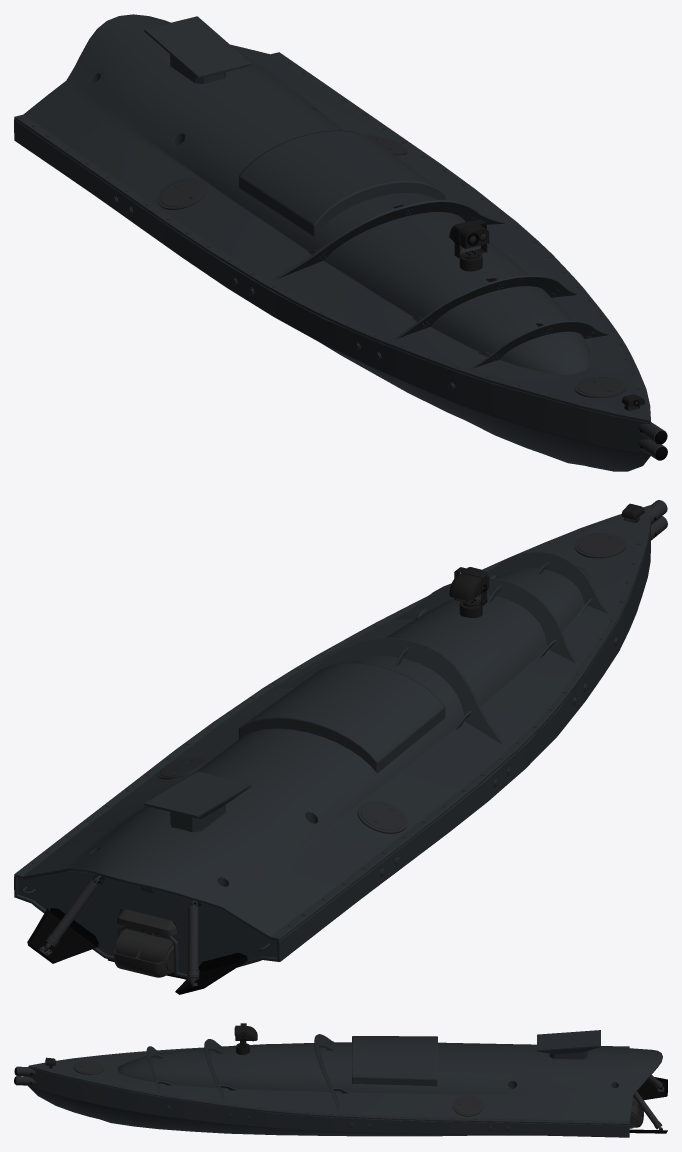
The model's file is USV_Drone_fbx_base.fbx.
3 views of the same model, one above another, from view 1: azimuth 30°, elevation 25°; view 2: azimuth 150°, elevation 25°; view 3: azimuth 270°, elevation 25° (orthographic). The views are drawn at different scales.
Visible parts, largest first — view 1: Body, Camera_Big, Detonators; view 2: Body, Controls, Engine, Camera_Big; view 3: Body, Controls, Camera_Big, Detonators, Engine.
Boxes of the visible parts, <box> form: Body: <box>14,14,651,471</box>; Camera_Big: <box>449,219,489,258</box>; Detonators: <box>637,422,667,460</box>; Body: <box>14,505,651,979</box>; Controls: <box>27,875,247,994</box>; Engine: <box>113,908,179,977</box>; Camera_Big: <box>449,567,489,606</box>; Body: <box>28,1030,662,1137</box>; Controls: <box>629,1074,667,1133</box>; Camera_Big: <box>234,1023,257,1048</box>; Detonators: <box>14,1066,36,1085</box>; Engine: <box>629,1096,643,1127</box>.
Size of the model in its own units: 36209 by 10281 by 5968.
